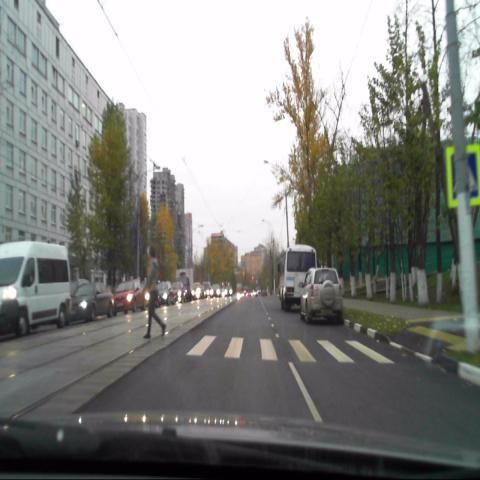5_19_1: (447, 146, 480, 209)
